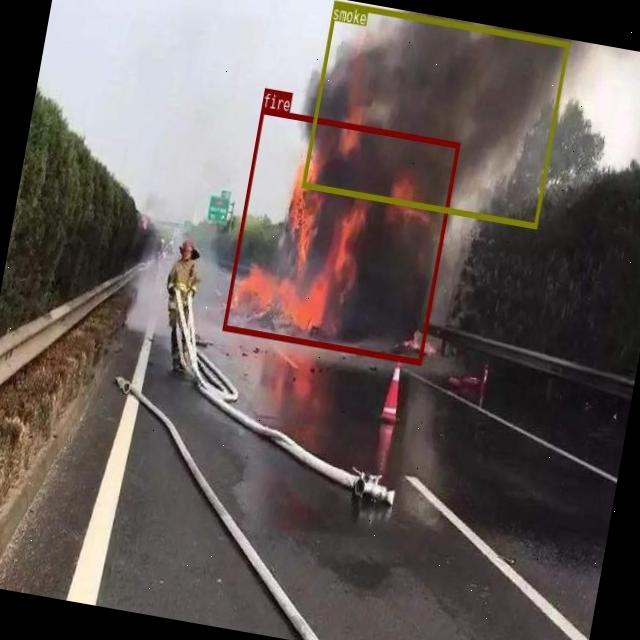fire: (222, 107, 459, 364)
smoke: (301, 0, 569, 227)
